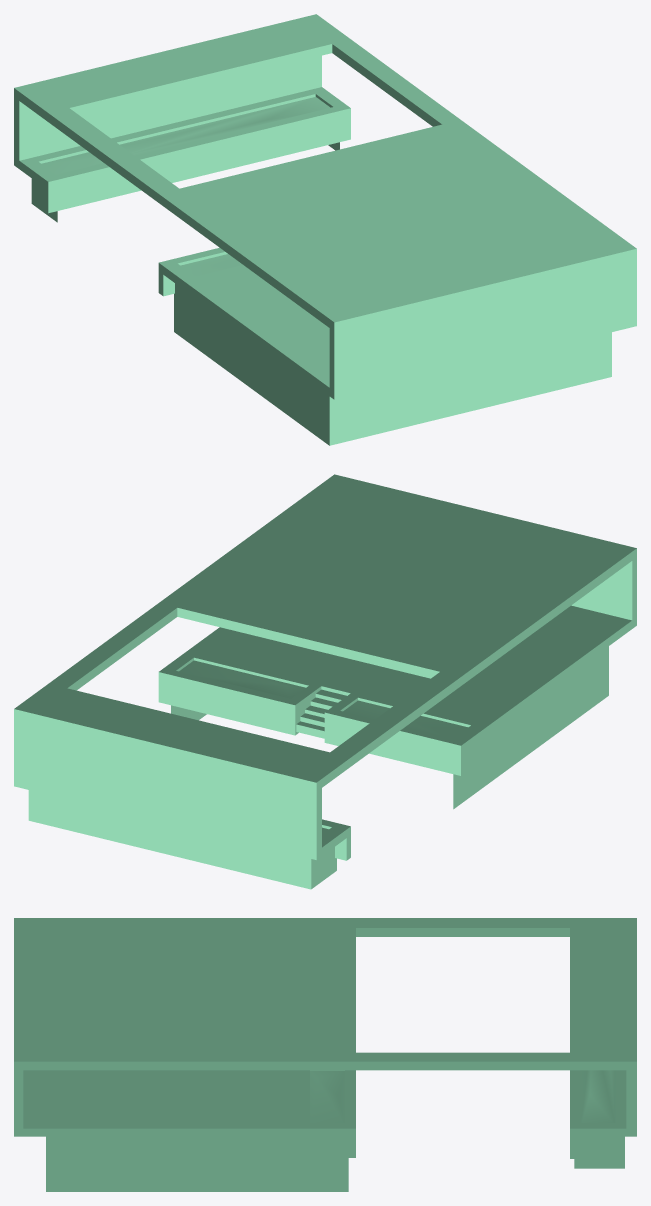
The model's file is cotf_exterior.FBX.
3 renders of one model, top to bottom at view 1: azimuth 30°, elevation 25°; view 2: azimuth 150°, elevation 25°; view 3: azimuth 270°, elevation 25°, orthographic. The views are drawn at different scales.
Parts seen in each view (by area): view 1: cotf_exterior; view 2: cotf_exterior; view 3: cotf_exterior.
Part boxes in pixels (left/top/right/bottom): cotf_exterior: left=14, top=14, right=636, bottom=445; cotf_exterior: left=14, top=474, right=636, bottom=889; cotf_exterior: left=14, top=918, right=636, bottom=1191.
Bounding box in the file's own units: 19.08 × 8.33 × 35.02.
